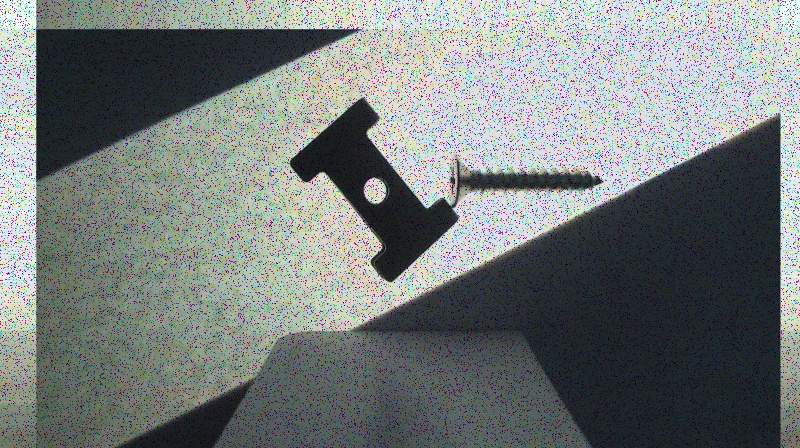O002: (287, 97, 457, 283)
S001: (451, 153, 604, 207)
